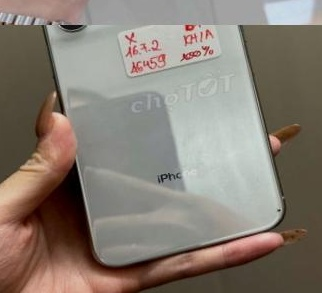scratch: (265, 200, 289, 217)
